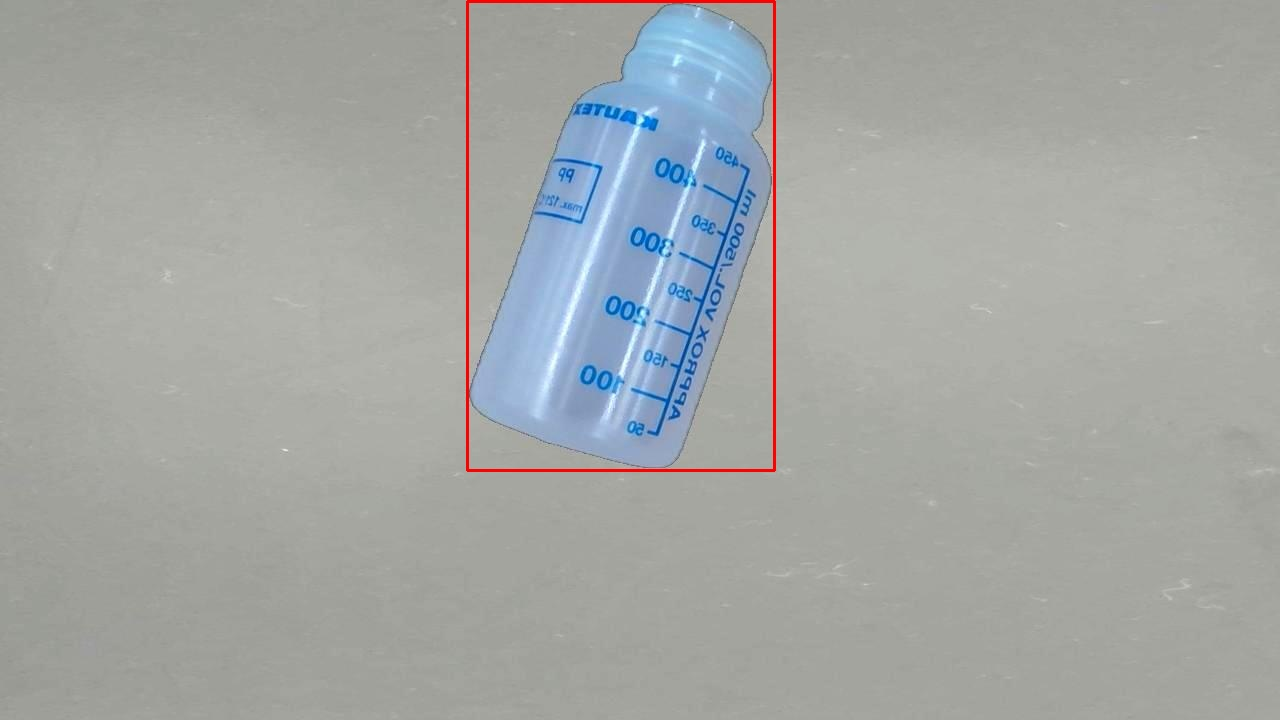cup: (467, 1, 774, 470)
